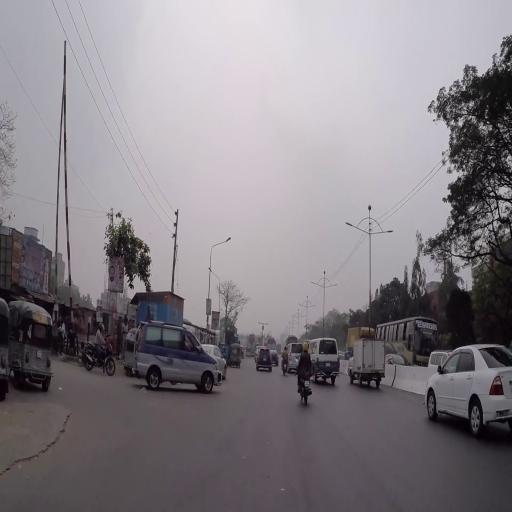bus: (375, 316, 439, 366)
car: (423, 343, 512, 433), (203, 343, 228, 380), (256, 349, 273, 373)
minivan: (134, 318, 223, 396), (289, 342, 304, 374), (428, 348, 452, 368)
motorbike: (82, 336, 114, 380), (295, 365, 316, 407), (282, 346, 289, 376)
pickup: (349, 338, 387, 388)
three wheelers (CNG): (10, 297, 55, 393), (231, 342, 242, 371), (246, 346, 252, 359)
van: (309, 336, 342, 384)
